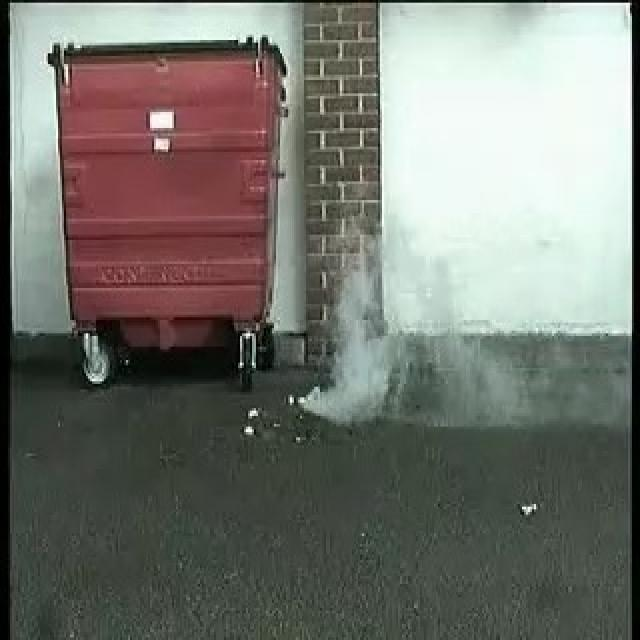smoke: (296, 226, 432, 424)
